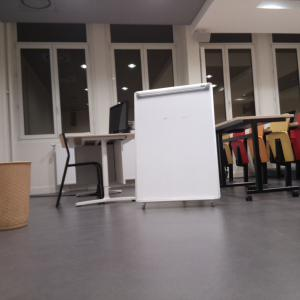big: (133, 85, 222, 205)
medium: (1, 160, 33, 234)
